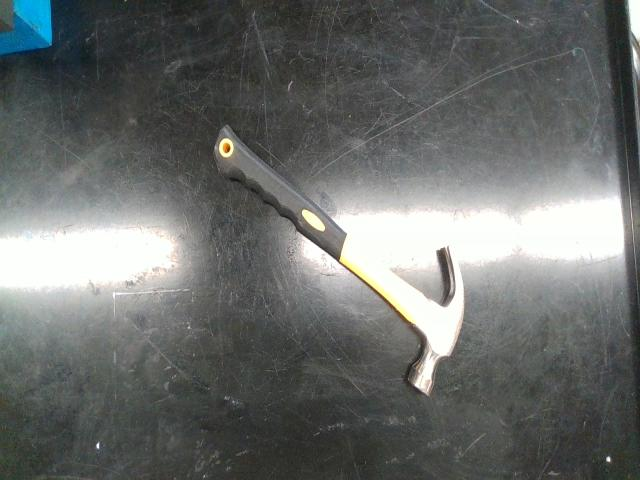Hammer: (214, 125, 464, 395)
